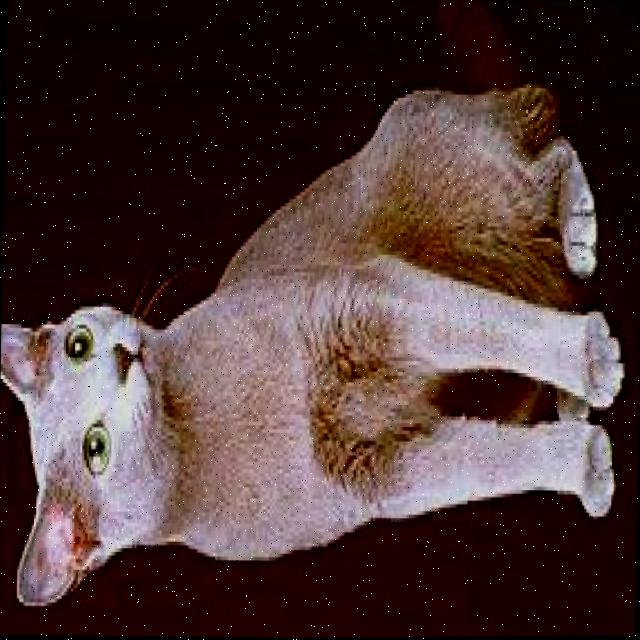Russian Blue: (0, 71, 635, 624)
